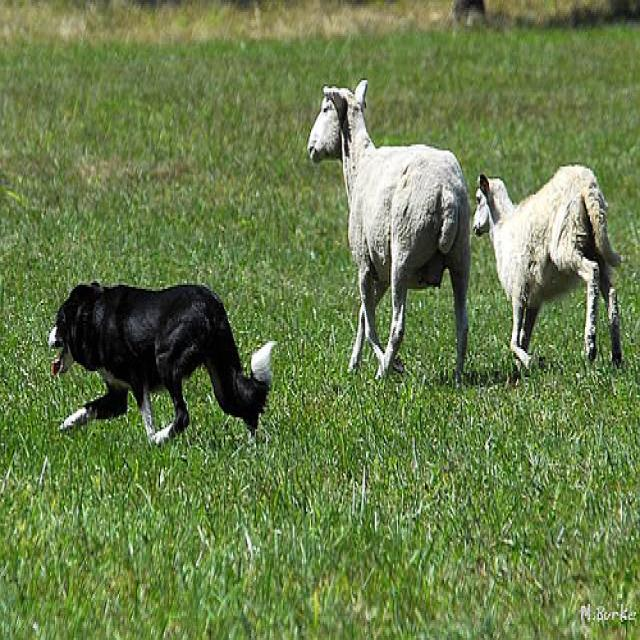dog: (43, 276, 288, 456)
sheep: (301, 71, 471, 388), (467, 152, 631, 386)
